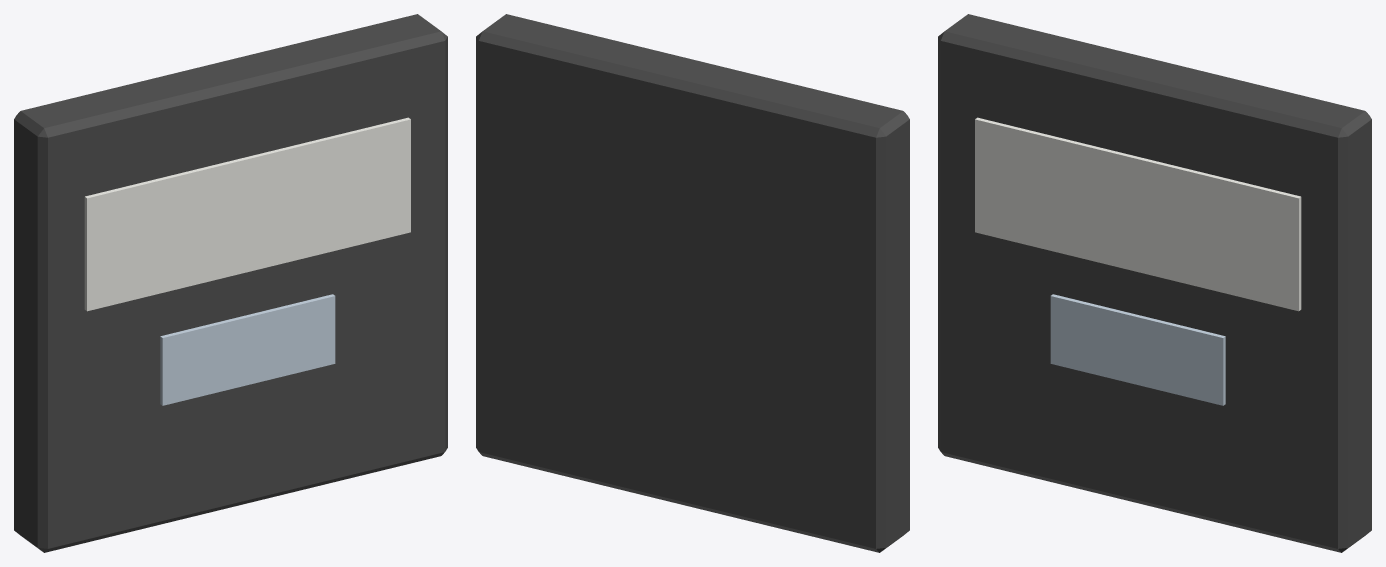
The model's file is vhs_tape.fbx.
The picture shows the model from 3 angles, left to right: view 1: azimuth 30°, elevation 25°; view 2: azimuth 150°, elevation 25°; view 3: azimuth 330°, elevation 25°; orthographic projection.
Parts seen in each view (by area): view 1: Tape; view 2: Tape; view 3: Tape.
Boxes of the visible parts, x1=… form: Tape: x1=14, y1=14, x2=447, y2=552; Tape: x1=476, y1=14, x2=909, y2=552; Tape: x1=938, y1=14, x2=1371, y2=552.
Bounding box in the file's own units: 0.19 × 0.188 × 0.027.
